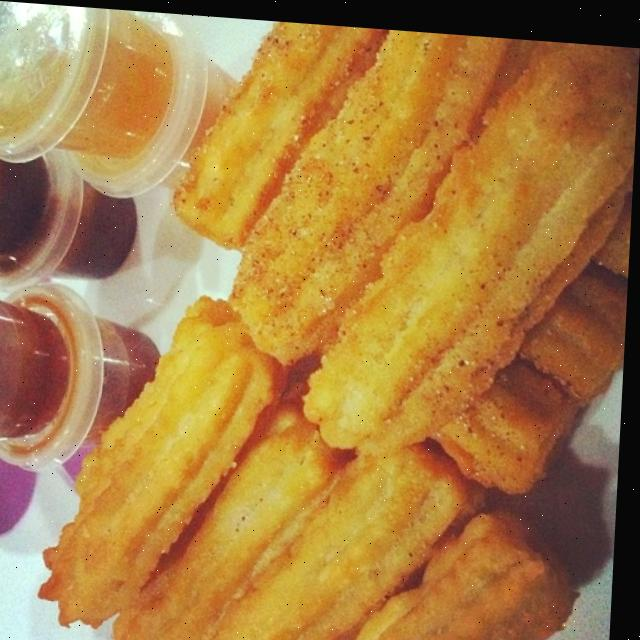炸货点心: (9, 22, 630, 640)
